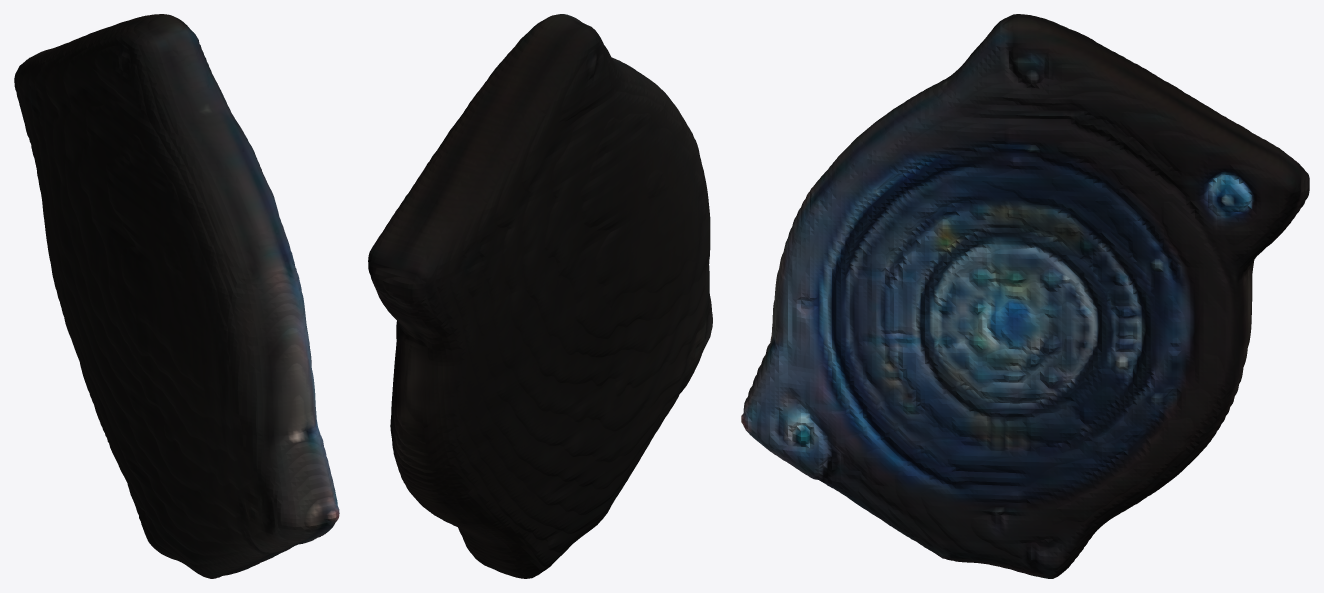
The model's file is dsadas1717055373.obj.
3 renders of one model, left to right at view 1: azimuth 30°, elevation 25°; view 2: azimuth 150°, elevation 25°; view 3: azimuth 270°, elevation 25°, orthographic. The views are drawn at different scales.
Bounding box in the file's own units: 0.2106 × 0.9115 × 0.8771.
